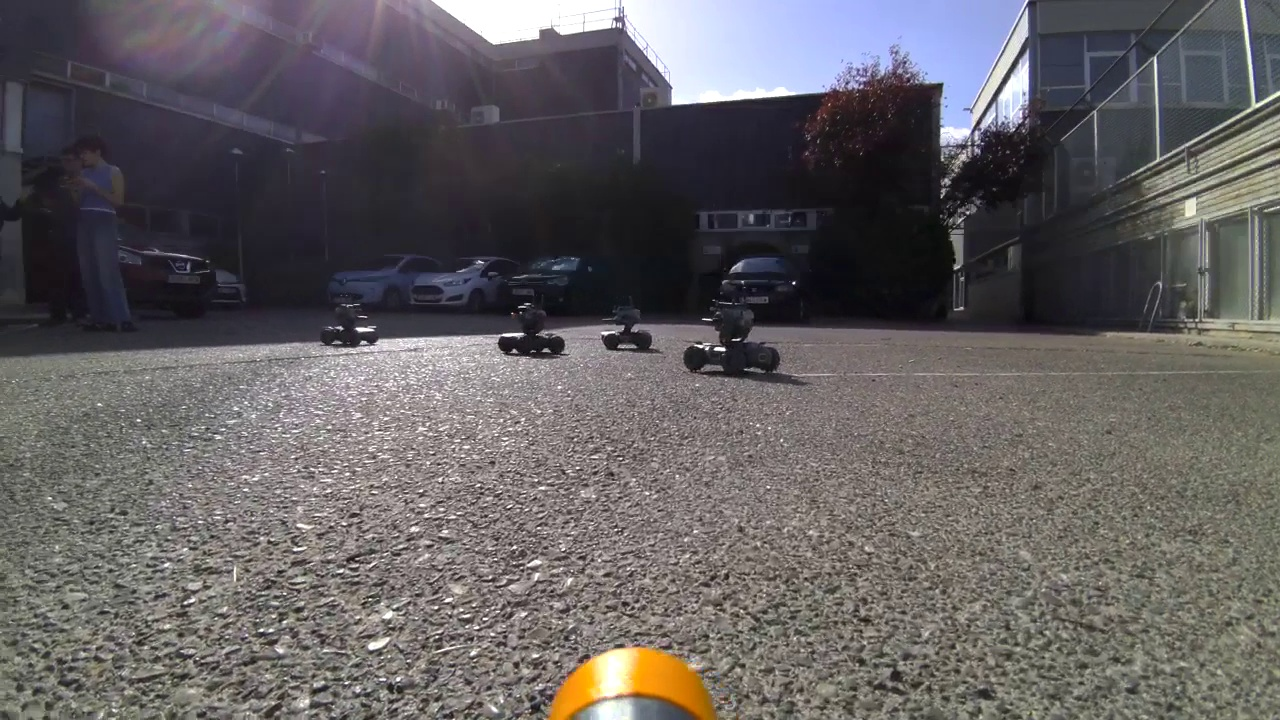robot: (678, 288, 781, 377), (496, 294, 567, 363), (320, 292, 384, 350), (599, 294, 655, 354)
